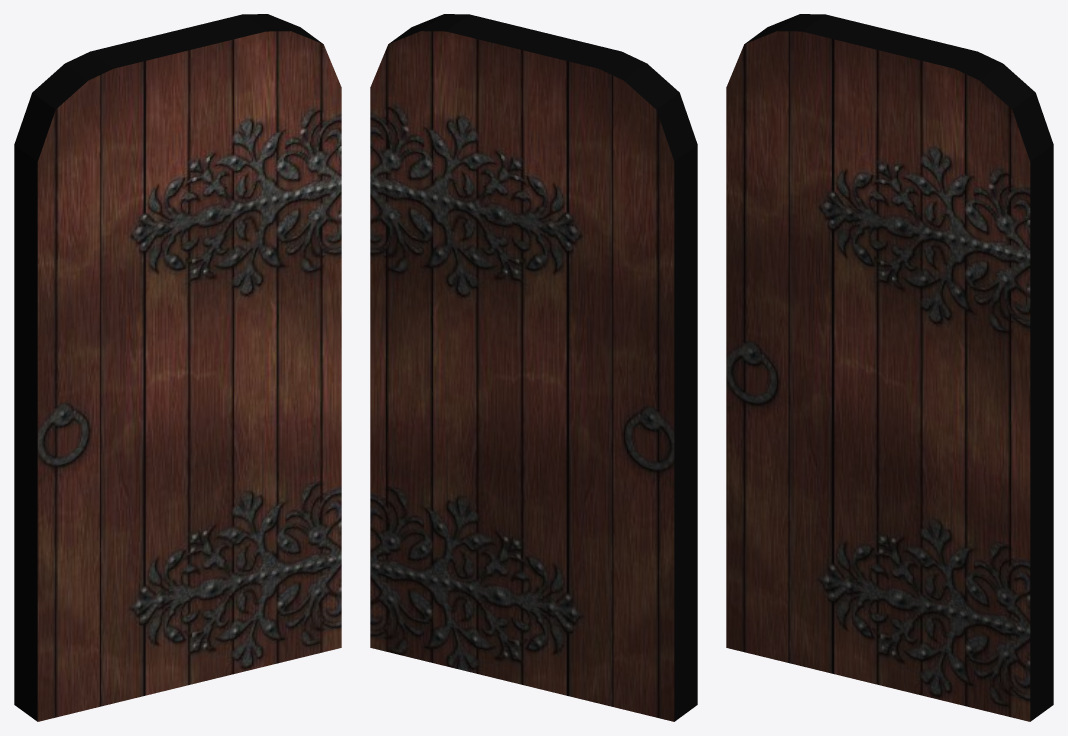
File: Door.fbx
The picture shows the model from 3 angles, left to right: view 1: azimuth 30°, elevation 25°; view 2: azimuth 150°, elevation 25°; view 3: azimuth 330°, elevation 25°; orthographic projection.
Visible parts, largest first — view 1: Door; view 2: Door; view 3: Door.
Part boxes in pixels (x1,y1,x2,y2): Door: [14, 14, 341, 721]; Door: [370, 14, 697, 721]; Door: [726, 14, 1053, 721].
Size of the model in its own units: 1.64 by 3.27 by 0.2188.
2 materials, 1 textured.
